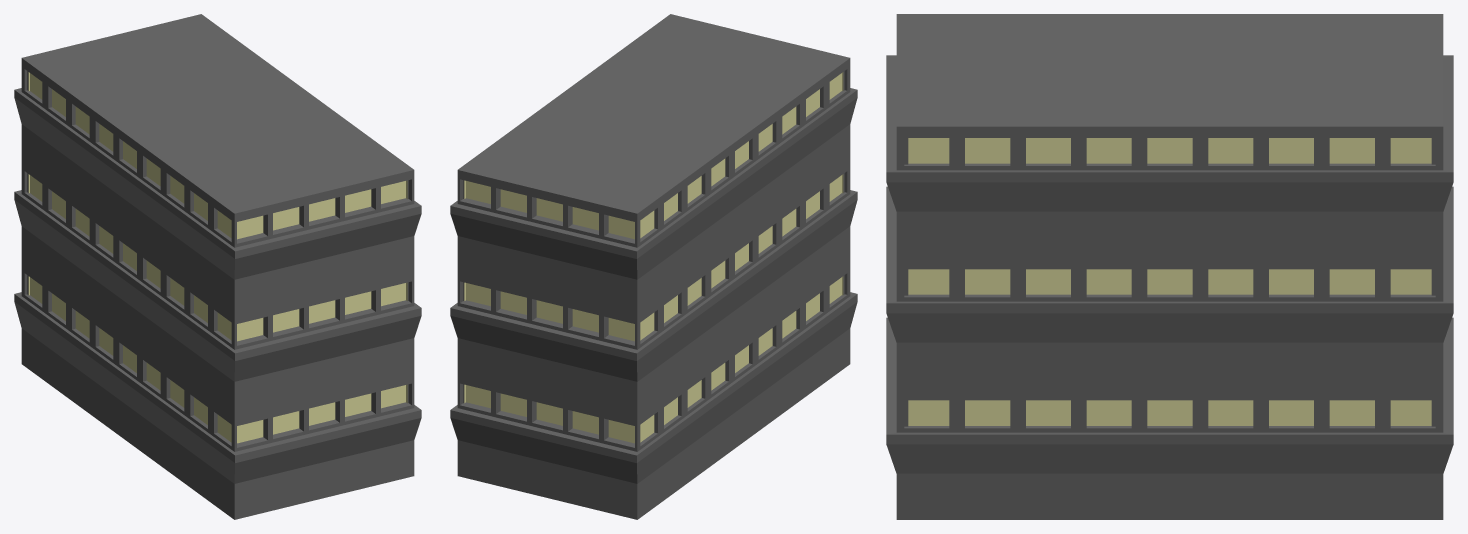
File: Building 3.fbx
3 renders of one model, left to right at view 1: azimuth 30°, elevation 25°; view 2: azimuth 150°, elevation 25°; view 3: azimuth 270°, elevation 25°, orthographic. The views are drawn at different scales.
Parts seen in each view (by area): view 1: Cube.002; view 2: Cube.002; view 3: Cube.002.
Boxes of the visible parts, <box> form: Cube.002: <box>14,14,421,519</box>; Cube.002: <box>450,14,857,519</box>; Cube.002: <box>886,14,1453,519</box>.
Size of the model in its own units: 4858 by 7620 by 9962.
